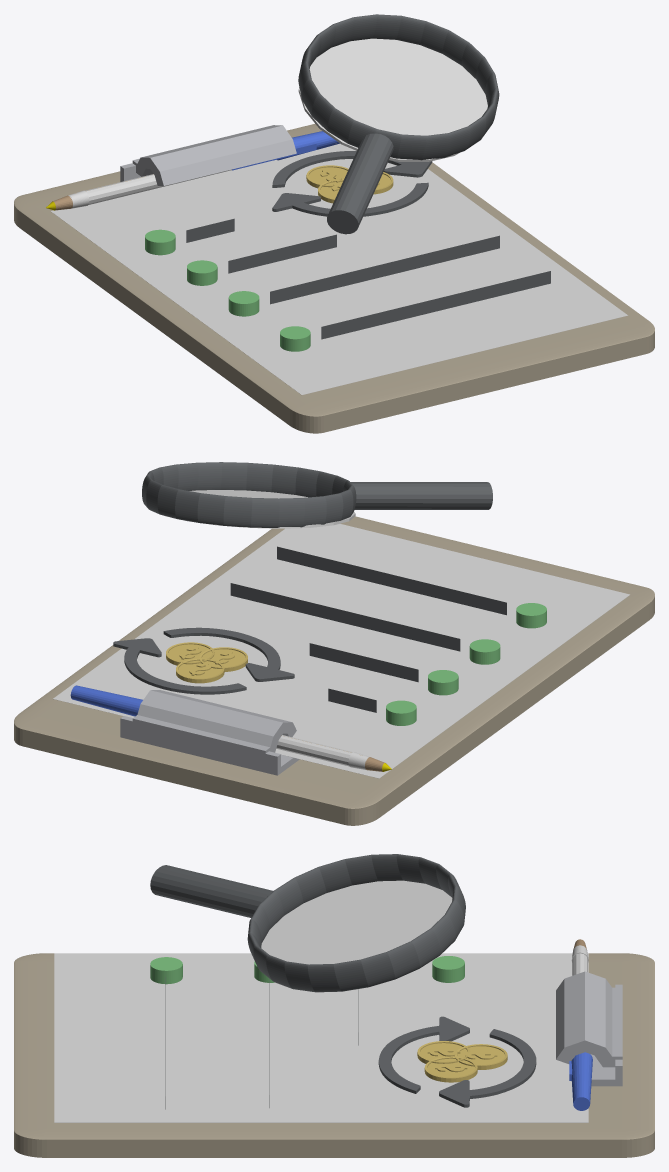
File: model_auditoria.glb
3 views of the same model, one above another, from view 1: azimuth 30°, elevation 25°; view 2: azimuth 150°, elevation 25°; view 3: azimuth 270°, elevation 25° (orthographic). The views are drawn at different scales.
Parts seen in each view (by area): view 1: Mesh_Mesh_head_geo.001_lambert2SG.001; view 2: Mesh_Mesh_head_geo.001_lambert2SG.001; view 3: Mesh_Mesh_head_geo.001_lambert2SG.001.
Part boxes in pixels (<box>): Mesh_Mesh_head_geo.001_lambert2SG.001: <box>14,14,654,433</box>; Mesh_Mesh_head_geo.001_lambert2SG.001: <box>14,462,654,825</box>; Mesh_Mesh_head_geo.001_lambert2SG.001: <box>14,854,654,1157</box>.
Size of the model in its own units: 0.0297 by 0.0167 by 0.0432.
